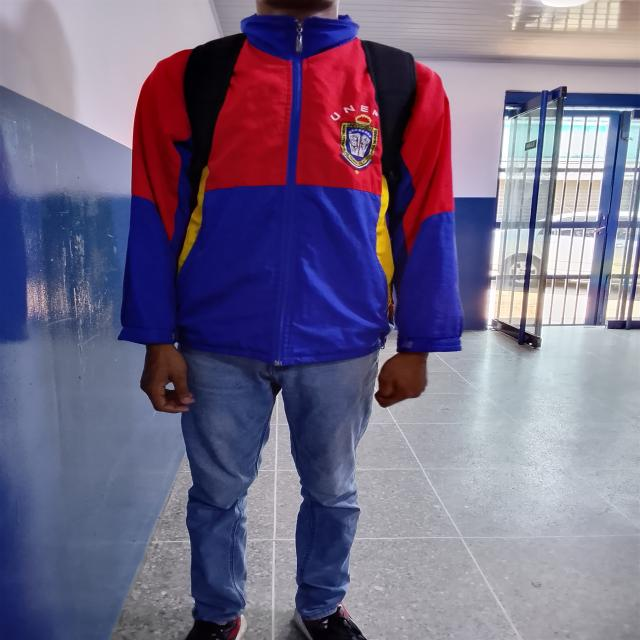chaqueta_unefa: (116, 12, 466, 367)
